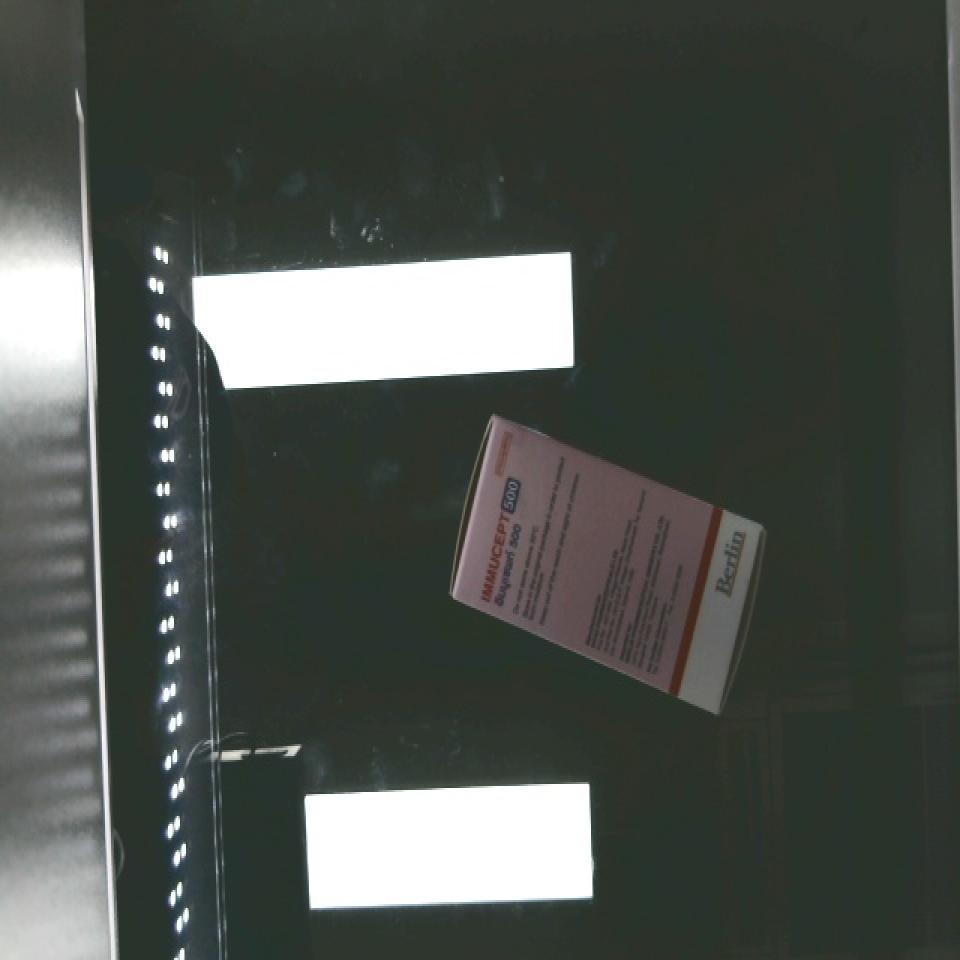medicine_box: (419, 409, 791, 713)
medicine_label_obb: (464, 463, 533, 617)
